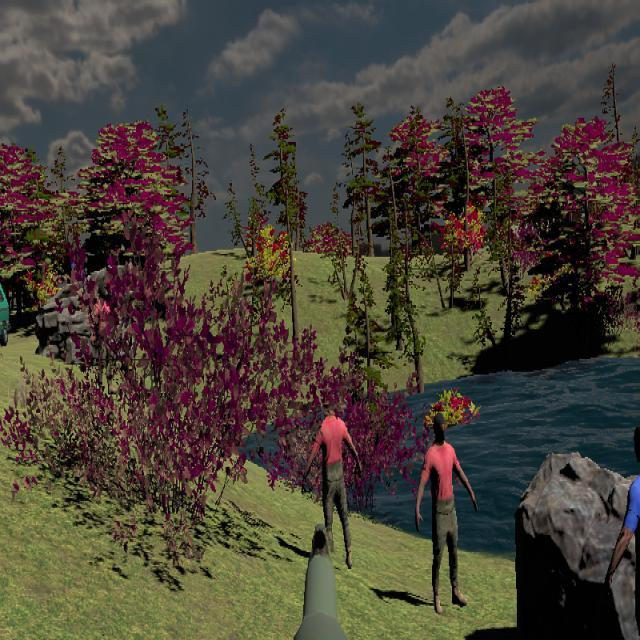Human: (415, 411, 478, 614), (304, 385, 362, 569), (605, 422, 640, 640)
car: (0, 278, 10, 349)
